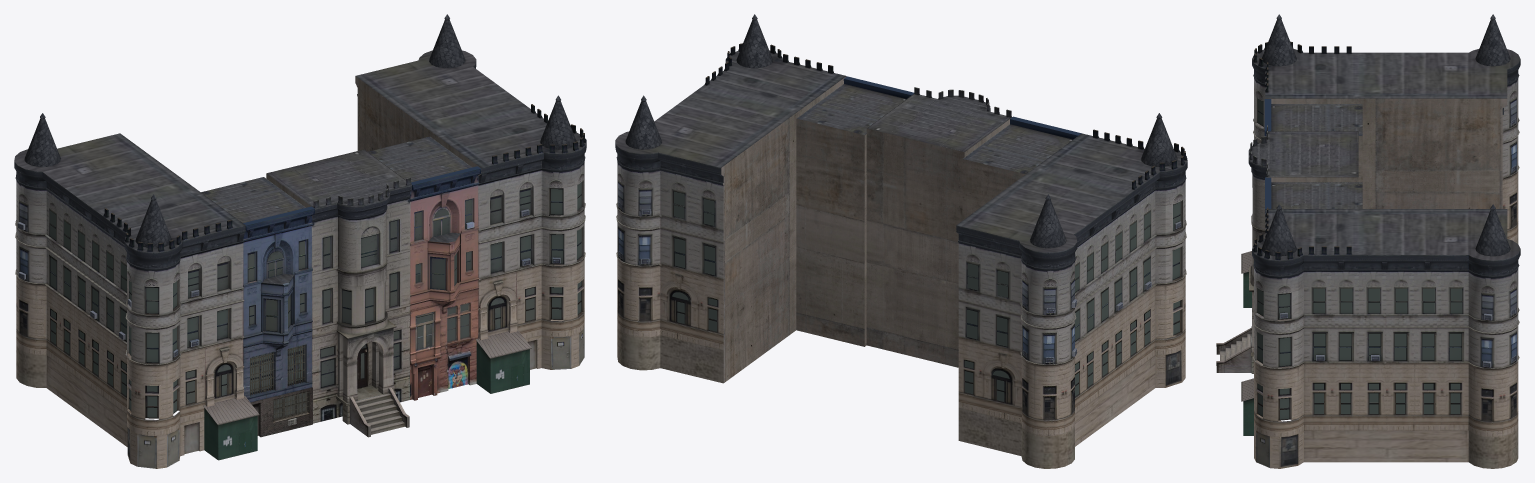
File: low_poly_classical_new_york_city_homes-v1.glb
3 renders of one model, left to right at view 1: azimuth 30°, elevation 25°; view 2: azimuth 150°, elevation 25°; view 3: azimuth 270°, elevation 25°, orthographic. The views are drawn at different scales.
Parts seen in each view (by area): view 1: jg.004, jg.006, jg.001, jg.002, jg.003, jg.005; view 2: jg.004, jg.003, jg.006, jg.001; view 3: jg.004, jg.003, jg.001, jg.006, jg.002.
Boxes of the visible parts, x1,y1,x2,y2 form: jg.004: [14, 14, 586, 468]; jg.006: [201, 136, 480, 437]; jg.001: [266, 149, 411, 437]; jg.002: [203, 329, 531, 460]; jg.003: [144, 76, 480, 377]; jg.005: [250, 345, 309, 420]; jg.004: [615, 14, 1187, 468]; jg.003: [721, 76, 1025, 382]; jg.006: [797, 76, 1081, 174]; jg.001: [867, 87, 1011, 152]; jg.004: [1252, 14, 1520, 468]; jg.003: [1265, 98, 1507, 368]; jg.001: [1216, 125, 1358, 373]; jg.006: [1264, 99, 1362, 213]; jg.002: [1241, 251, 1253, 435].
Bounding box in the file's own units: 188 × 104 × 113.
Materials: 6 (6 with a texture image).
